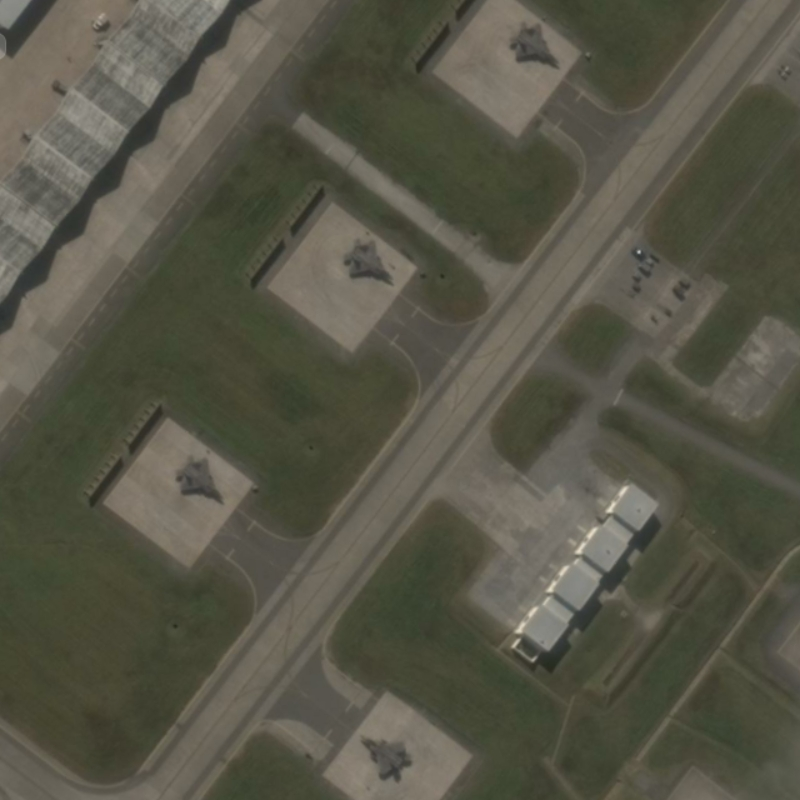A15: (351, 728, 421, 789), (333, 232, 402, 292), (171, 449, 231, 508), (507, 15, 564, 72)
